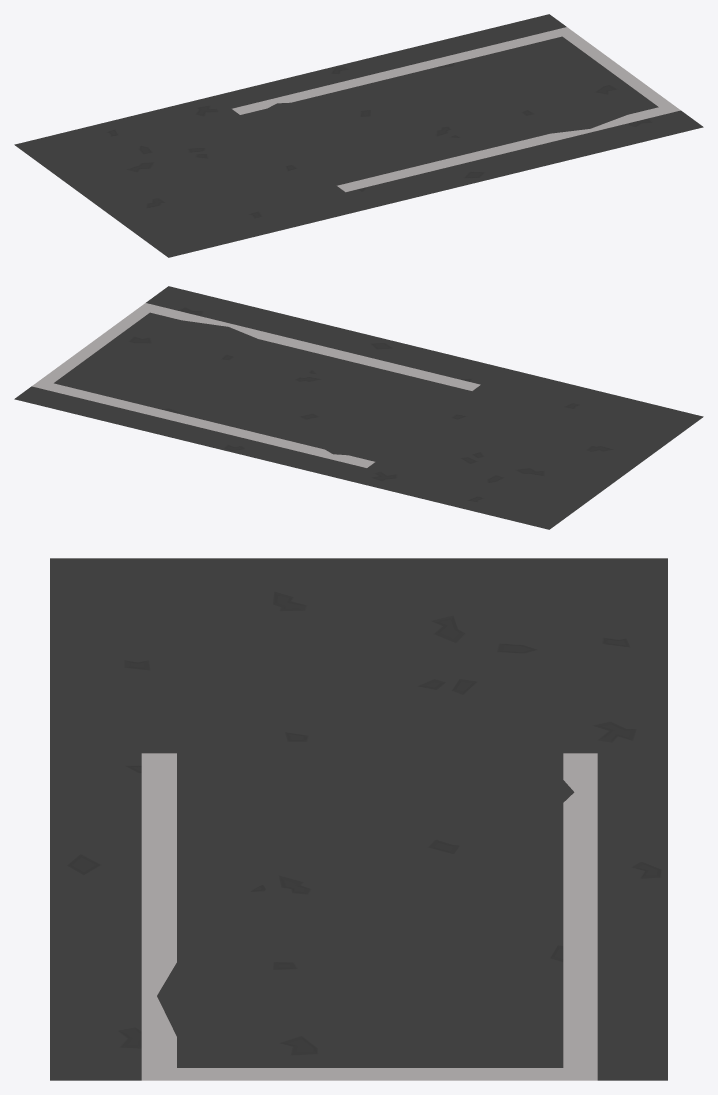
File: SM_Gen_Env_Road_Parking_05.glb
3 views of the same model, one above another, from view 1: azimuth 30°, elevation 25°; view 2: azimuth 150°, elevation 25°; view 3: azimuth 270°, elevation 25° (orthographic). The views are drawn at different scales.
Visible parts, largest first — view 1: SM_Gen_Env_Road_Parking_052; view 2: SM_Gen_Env_Road_Parking_052; view 3: SM_Gen_Env_Road_Parking_052.
Part boxes in pixels (x1,y1,x2,y2): SM_Gen_Env_Road_Parking_052: [14, 14, 703, 257]; SM_Gen_Env_Road_Parking_052: [14, 286, 703, 529]; SM_Gen_Env_Road_Parking_052: [50, 558, 667, 1080].
Bounding box in the file's own units: 10 × 0.000107 × 5.
Materials: 1 (1 with a texture image).
